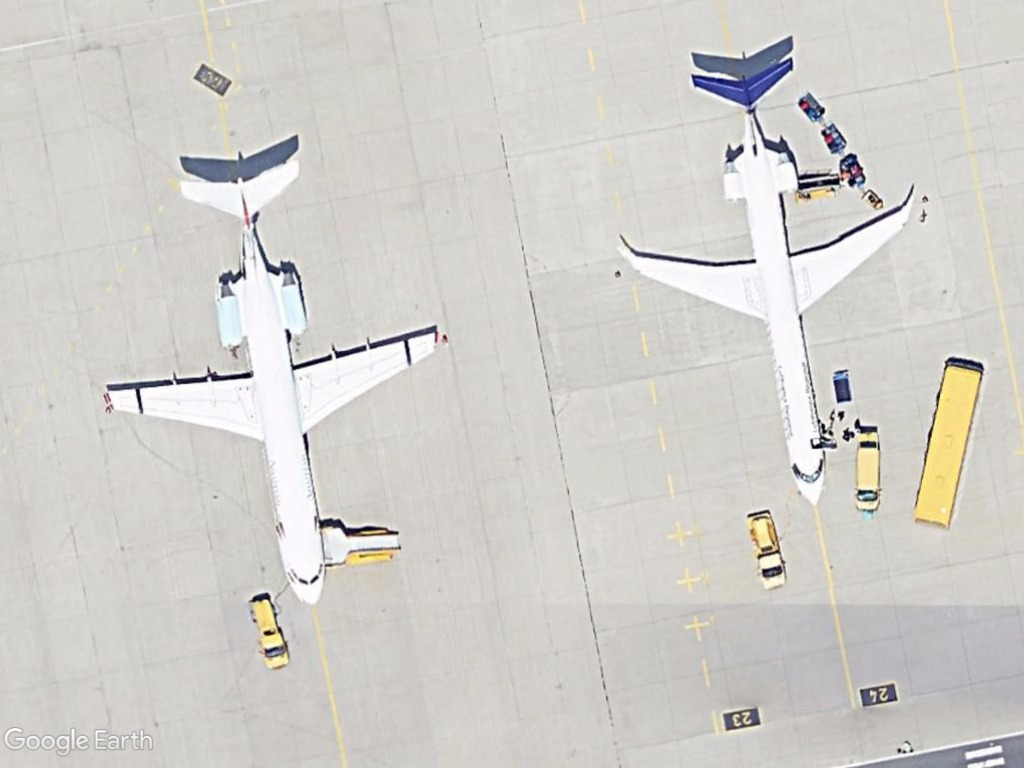bus: (905, 354, 986, 535)
chartered: (97, 150, 453, 617), (602, 48, 925, 519)
stairtruck: (319, 516, 410, 572)
van: (248, 592, 297, 676), (847, 423, 886, 518)
